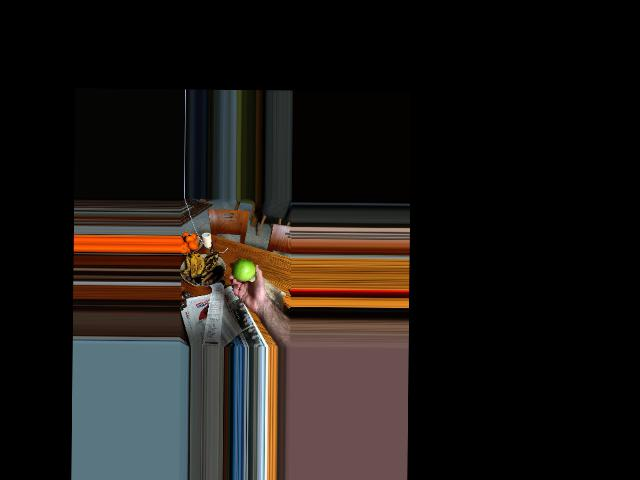apple: (231, 257, 256, 282)
